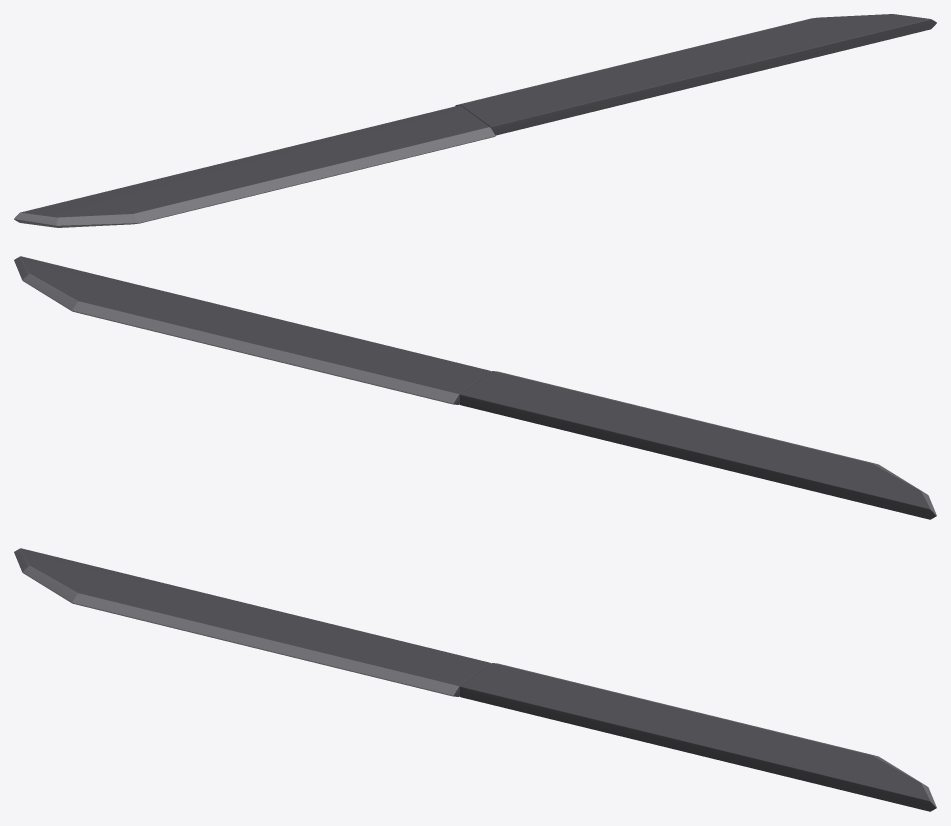
Rendered from RotatingBlades.fbx.
3 renders of one model, top to bottom at view 1: azimuth 30°, elevation 25°; view 2: azimuth 150°, elevation 25°; view 3: azimuth 330°, elevation 25°, orthographic. The views are drawn at different scales.
Parts seen in each view (by area): view 1: RotatingBlade; view 2: RotatingBlade; view 3: RotatingBlade.
Part boxes in pixels (<box>): RotatingBlade: <box>14,14,936,227</box>; RotatingBlade: <box>14,256,936,519</box>; RotatingBlade: <box>14,548,936,811</box>.
Bounding box in the file's own units: 4.77 × 0.3838 × 0.0535.
